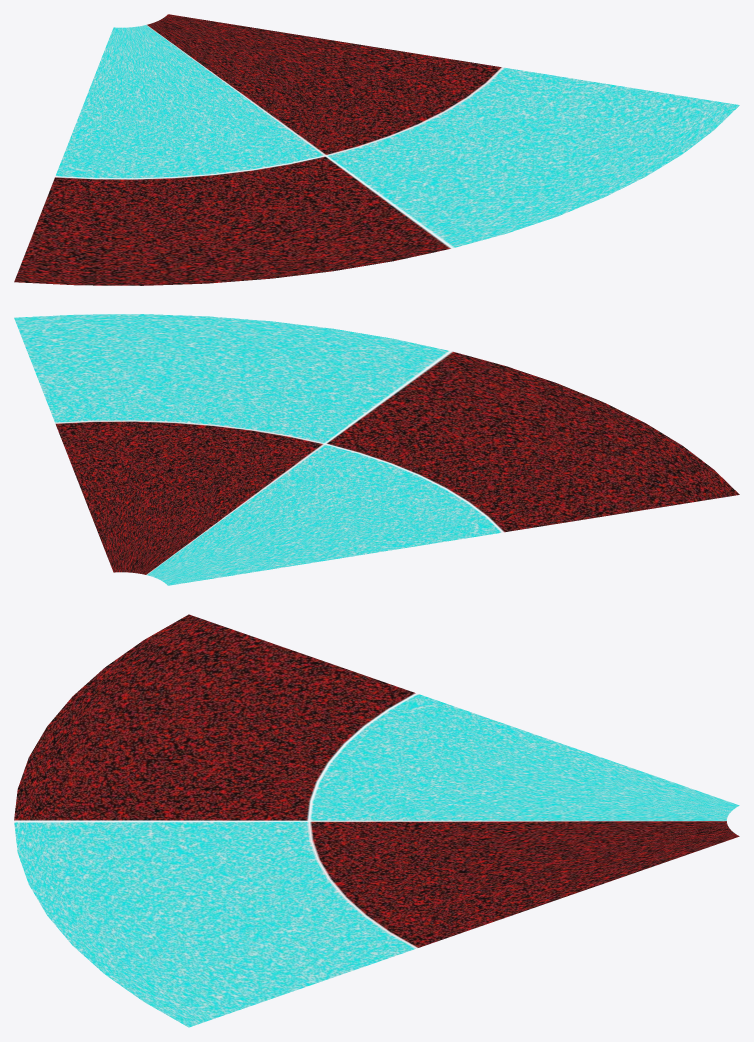
3 renders of one model, top to bottom at view 1: azimuth 30°, elevation 25°; view 2: azimuth 150°, elevation 25°; view 3: azimuth 270°, elevation 25°, orthographic. The views are drawn at different scales.
Parts seen in each view (by area): view 1: SM_Triangle_Plane_01_LOD0; view 2: SM_Triangle_Plane_01_LOD0; view 3: SM_Triangle_Plane_01_LOD0.
Boxes of the visible parts, bbox=[...] form: SM_Triangle_Plane_01_LOD0: bbox=[14, 14, 739, 285]; SM_Triangle_Plane_01_LOD0: bbox=[14, 314, 739, 585]; SM_Triangle_Plane_01_LOD0: bbox=[14, 614, 739, 1027].
Size of the model in its own units: 0.4478 by 0 by 0.3325.
Materials: 1 (1 with a texture image).
